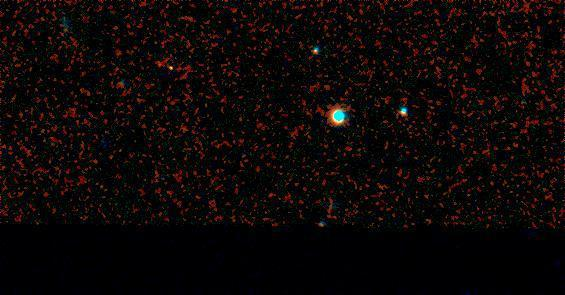star: (162, 57, 192, 87)
